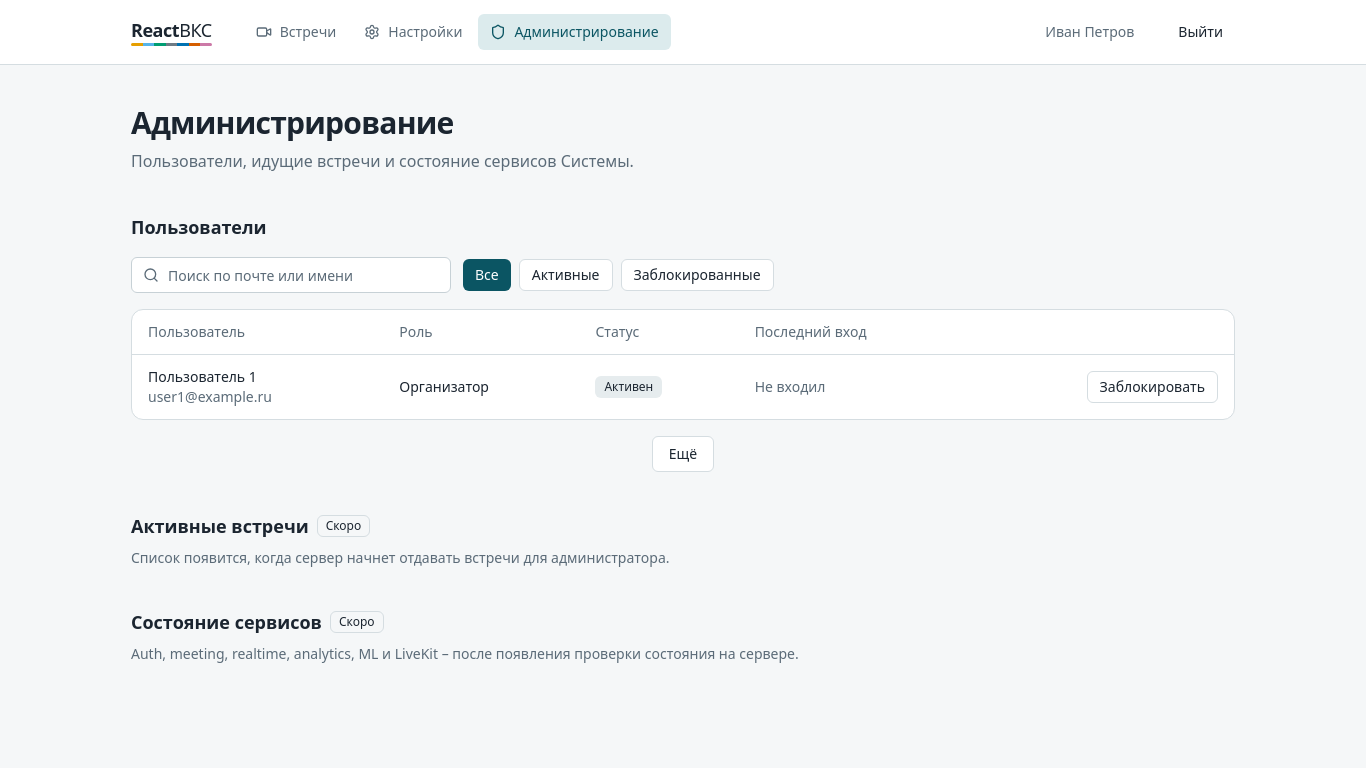
админка: пользователи (режим http) › «Ещё» подгружает страницу по курсору
Click the button "Ещё" at [683, 454], box [652, 436, 714, 472]
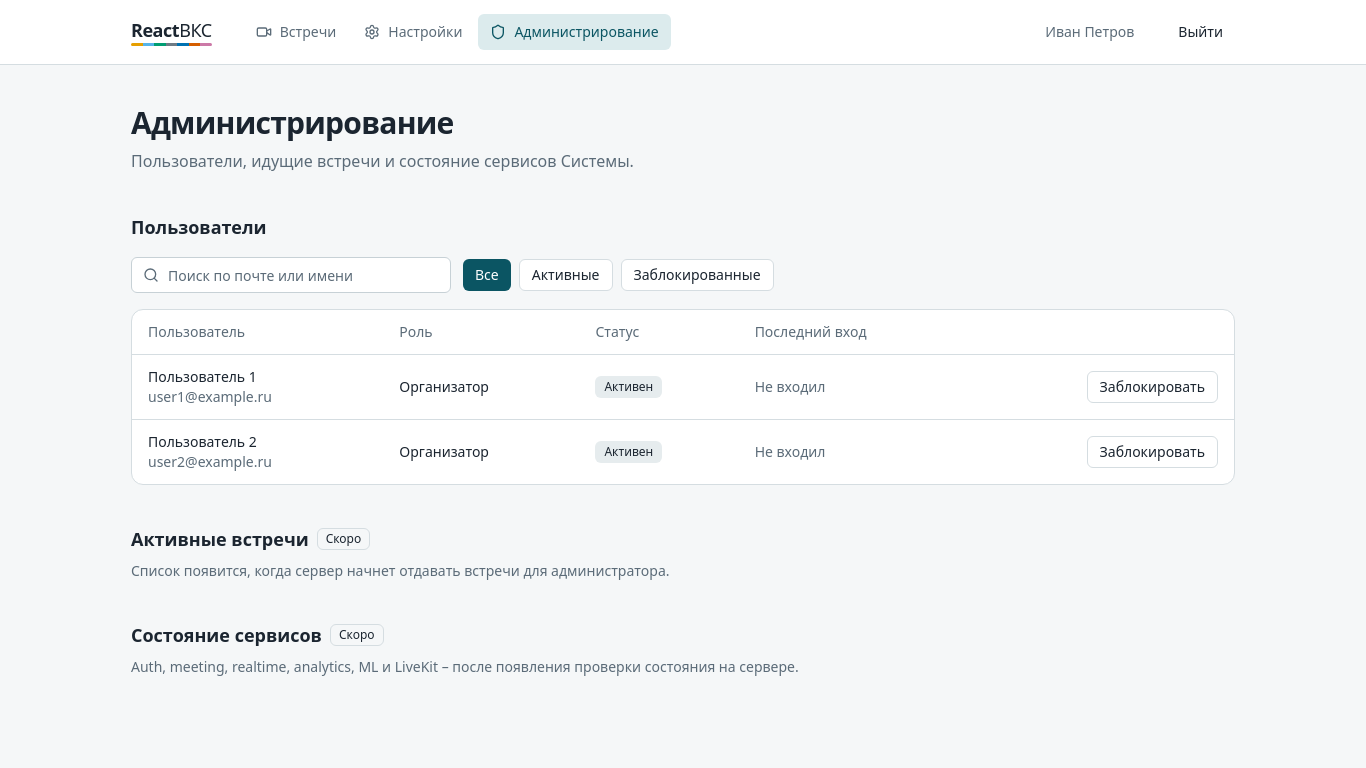
Expected: the text "Пользователь 1" is shown, [148, 367, 257, 386]
Expected: the text "Пользователь 2" is shown, [148, 432, 257, 451]
